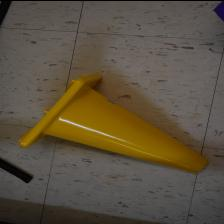cone: (18, 72, 210, 172)
cube: (211, 0, 224, 22)
